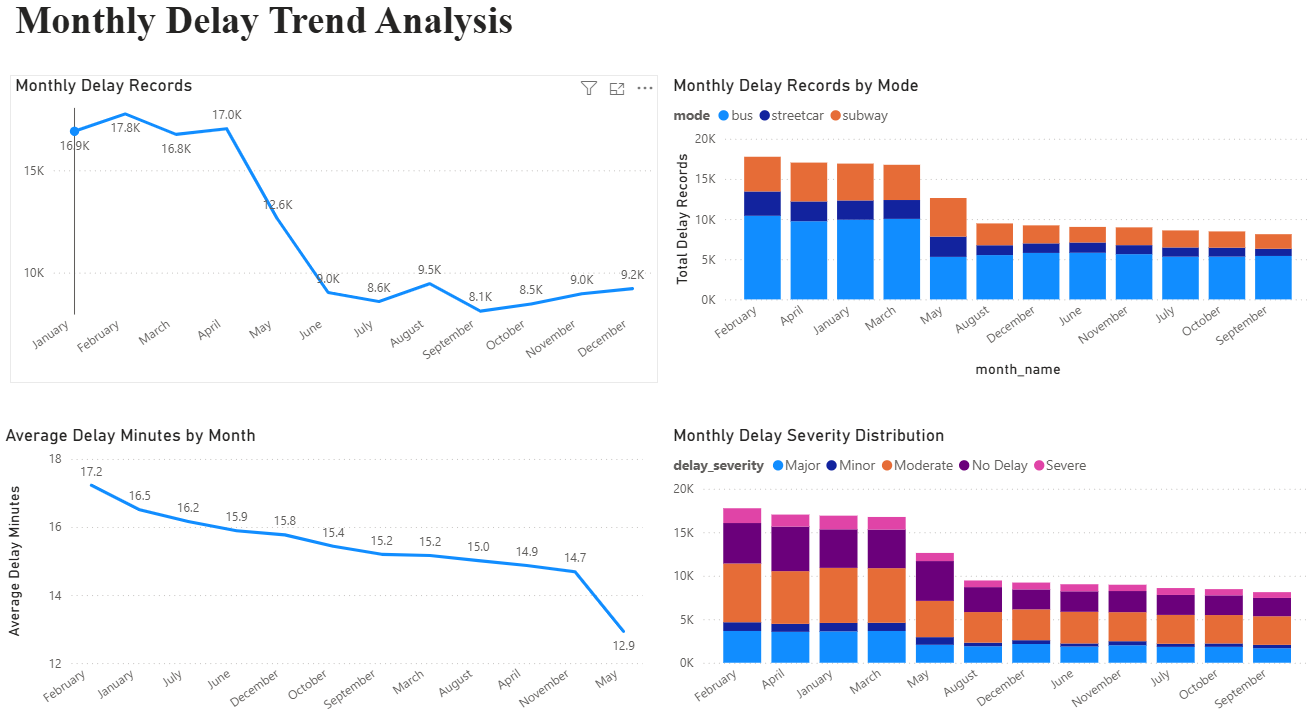

Layout of this report page (visuals, bound fields, positions):
{"tool":"powerbi","page":{"name":"Monthly Trend","canvas":[1280,720],"ordinal":1},"visuals":[{"type":"textbox","box":[9.7,0,521.3,59.3],"z":0},{"type":"lineChart","title":"Monthly Delay Records","fields":{"Category":["ttc_delay_cleaned.date.Variation.Date Hierarchy.Month"],"Y":["ttc_delay_cleaned.Total Delay Records"]},"box":[9.7,79.8,630.3,300],"z":1000},{"type":"lineChart","title":"Average Delay Minutes by Month","fields":{"Category":["ttc_delay_cleaned.month_name"],"Y":["ttc_delay_cleaned.Average Delay Minutes"]},"box":[0,420.2,630.3,299.6],"z":2000},{"type":"columnChart","title":"Monthly Delay Severity Distribution","fields":{"Y":["ttc_delay_cleaned.Total Delay Records"],"Series":["ttc_delay_cleaned.delay_severity"],"Category":["ttc_delay_cleaned.month_name"]},"box":[649.7,420.2,630.3,299.6],"z":3000},{"type":"columnChart","title":"Monthly Delay Records by Mode","fields":{"Series":["ttc_delay_cleaned.mode"],"Category":["ttc_delay_cleaned.month_name"],"Y":["ttc_delay_cleaned.Total Delay Records"]},"box":[649.7,79.8,630.3,299.6],"z":3001}]}

Visuals, with their boxes in screenshot pixels (x1, y1, x2, y2), scaled from the page's 1280x720 canvas onto the 1309x727 screenshot:
textbox: locate(10, 0, 543, 60)
"Monthly Delay Records" lineChart: locate(10, 81, 654, 383)
"Average Delay Minutes by Month" lineChart: locate(0, 424, 645, 726)
"Monthly Delay Severity Distribution" columnChart: locate(664, 424, 1308, 726)
"Monthly Delay Records by Mode" columnChart: locate(664, 81, 1308, 383)
